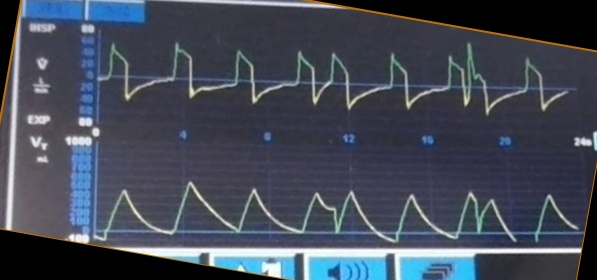Double_Triggering Flow: (109, 39, 566, 114)
Double_Triggering Volume: (122, 177, 574, 244)
